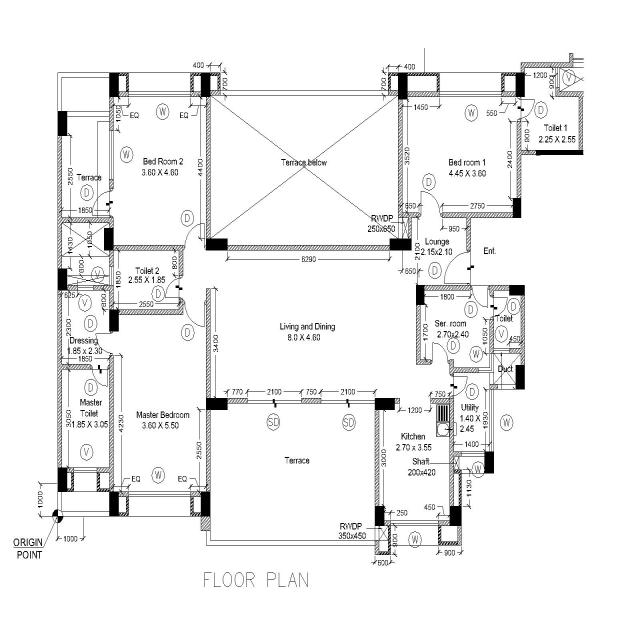Column: (397, 71, 409, 101), (108, 490, 120, 518), (200, 490, 212, 518), (448, 504, 462, 528), (374, 396, 396, 411), (200, 72, 212, 98), (108, 72, 120, 98), (390, 238, 412, 252), (57, 110, 68, 137), (535, 149, 584, 155), (103, 227, 115, 251), (108, 309, 120, 333), (515, 72, 526, 98), (57, 467, 68, 493), (484, 450, 495, 476), (515, 364, 526, 390), (57, 267, 68, 291), (206, 398, 228, 410), (374, 504, 385, 528), (414, 284, 426, 306), (206, 238, 228, 250), (508, 284, 526, 296), (512, 198, 522, 218)
Door: (109, 189, 113, 217), (179, 276, 184, 298), (467, 251, 470, 284), (419, 213, 442, 217), (184, 245, 206, 249), (110, 332, 114, 354), (184, 300, 205, 304), (431, 360, 449, 364), (91, 365, 108, 369), (491, 296, 494, 318), (450, 375, 453, 397), (472, 285, 488, 289), (518, 96, 520, 120)
Opening: (400, 397, 432, 404)
Sliding Door: (246, 397, 302, 404), (320, 398, 376, 404)
Ventilator: (73, 466, 97, 474), (77, 284, 94, 292), (555, 66, 561, 88), (108, 265, 114, 285), (493, 348, 510, 354)
Window: (128, 490, 192, 498), (128, 90, 192, 98), (439, 90, 502, 98), (489, 388, 495, 452), (478, 352, 495, 374), (108, 130, 114, 180), (390, 520, 439, 526), (460, 450, 486, 456)
